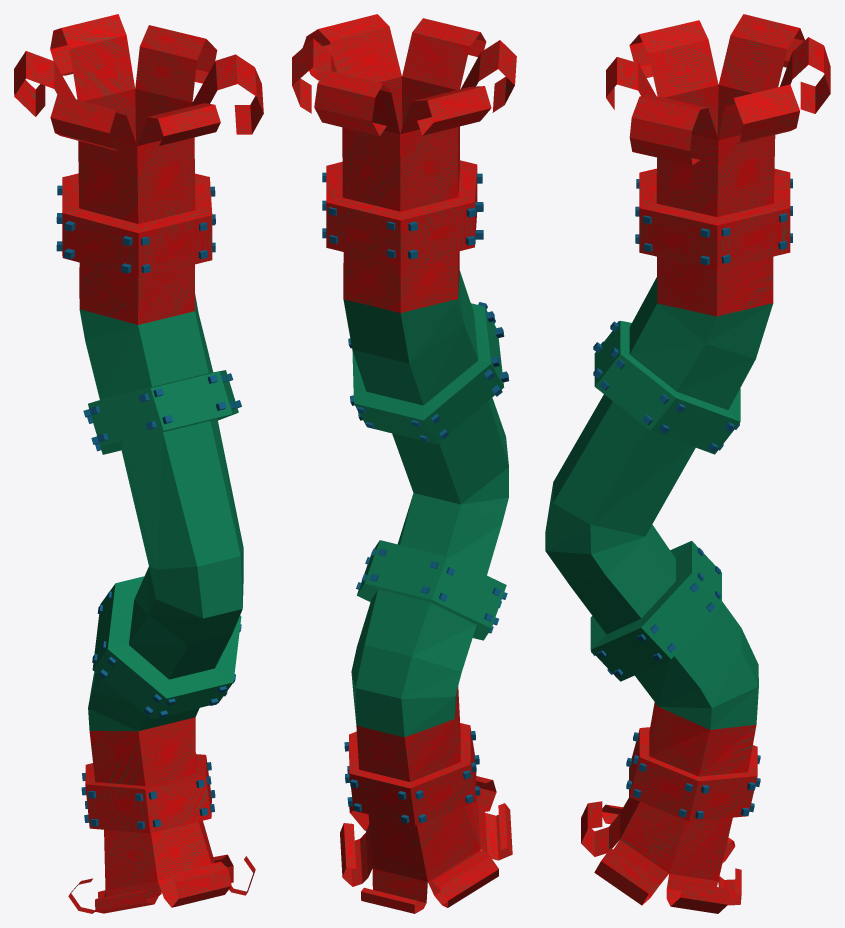
3 renders of one model, left to right at view 1: azimuth 30°, elevation 25°; view 2: azimuth 150°, elevation 25°; view 3: azimuth 270°, elevation 25°, orthographic.
Parts seen in each view (by area): view 1: tube, tube_interior, screws; view 2: tube, tube_interior, screws; view 3: tube, tube_interior, screws.
Part boxes in pixels (box(x1,y1,x2,y2)): tube: box(14, 16, 262, 913); tube_interior: box(14, 14, 263, 913); screws: box(56, 185, 241, 829); tube: box(292, 15, 515, 913); tube_interior: box(292, 14, 516, 913); screws: box(322, 172, 509, 823); tube: box(545, 15, 830, 913); tube_interior: box(581, 14, 830, 913); screws: box(591, 178, 792, 818).
Bounding box in the file's own units: 3851 × 14340 × 4404.
